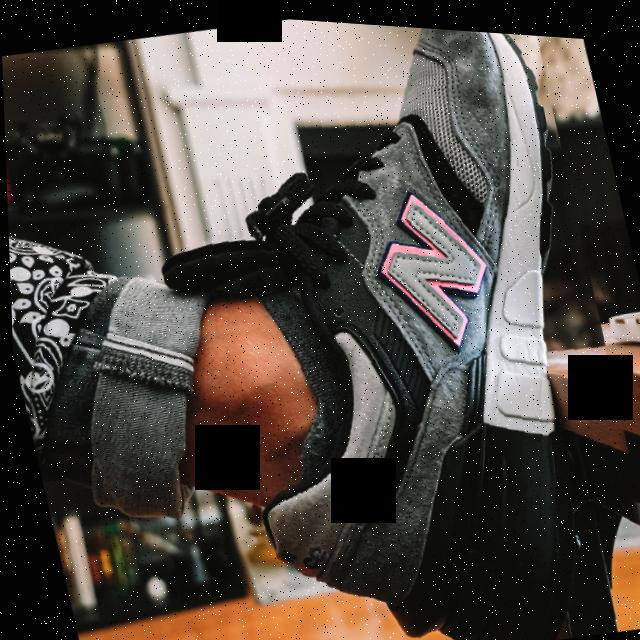shoe: (157, 8, 640, 640)
